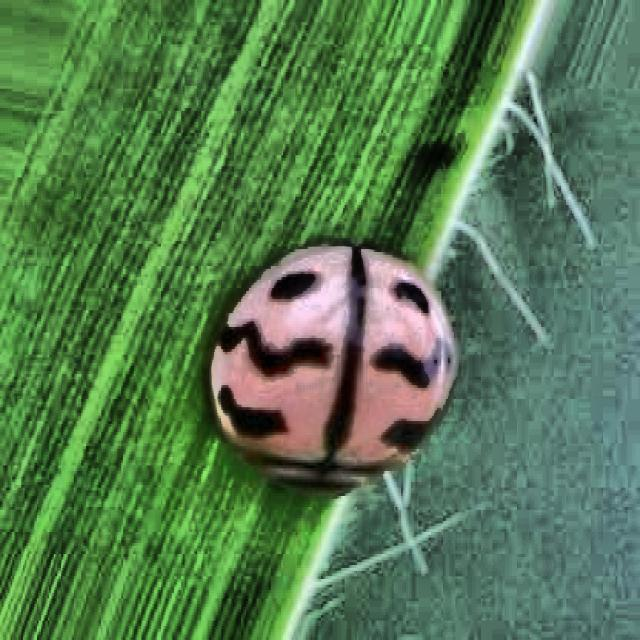Asian-Lady-beetle: (171, 147, 479, 614)
